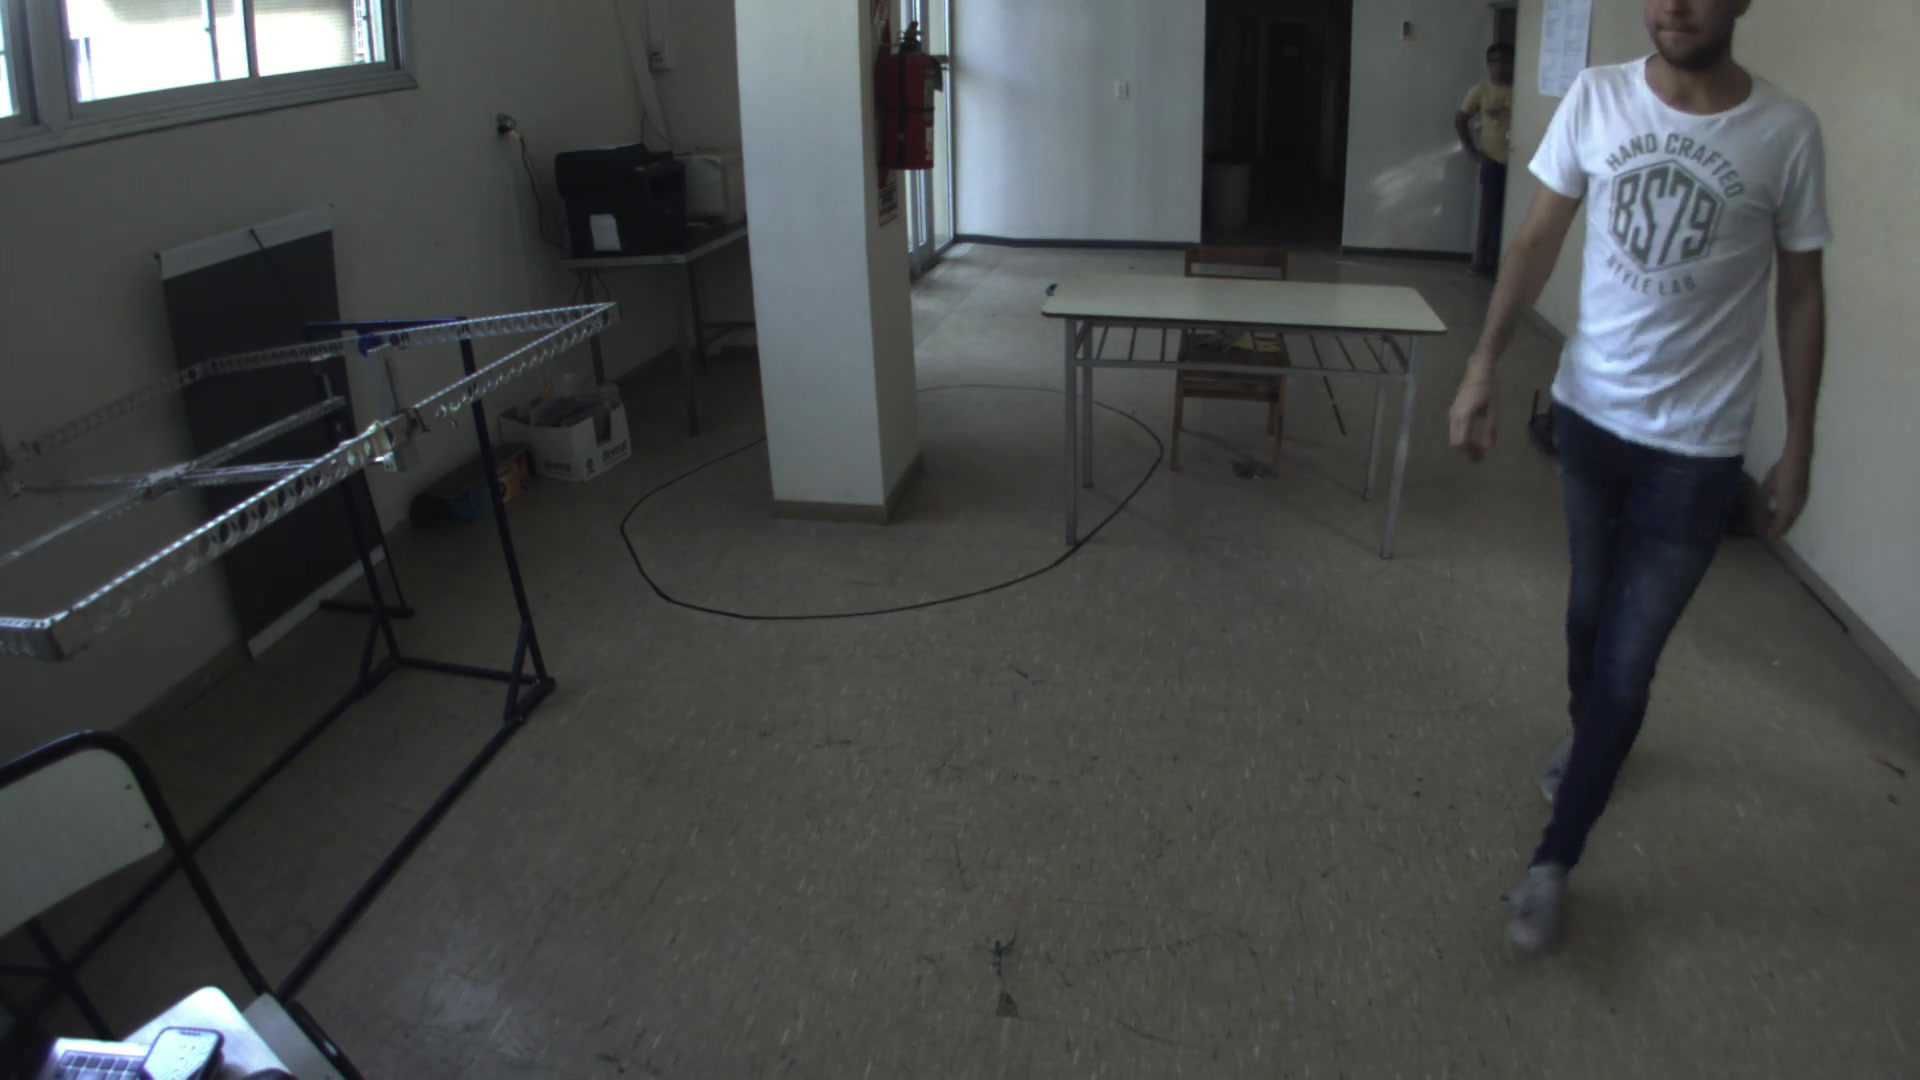hand: (1448, 357, 1510, 462), (1745, 454, 1808, 549)
